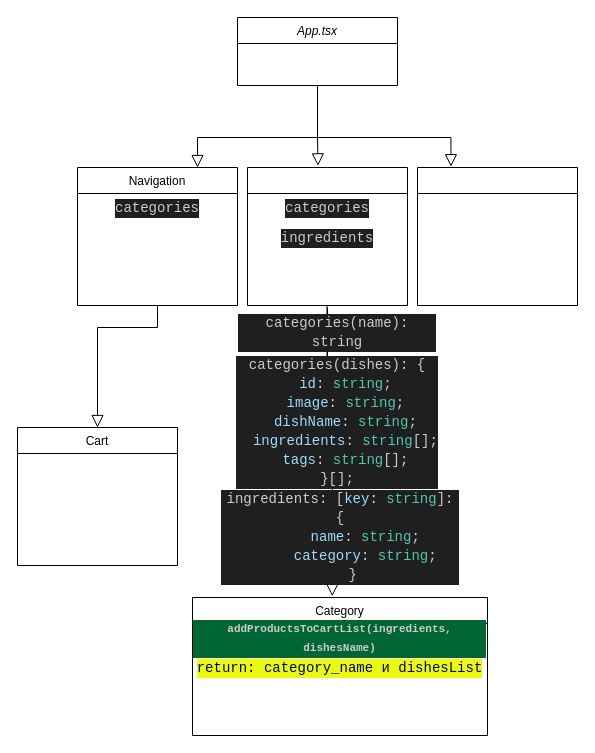
Image size: 595x753. Some labels were removed from this diagram. Here are the shapes that lost their labels. From the top down, the box of each, then its label:
(246, 166, 408, 306): Content
(416, 166, 578, 306): Tags
